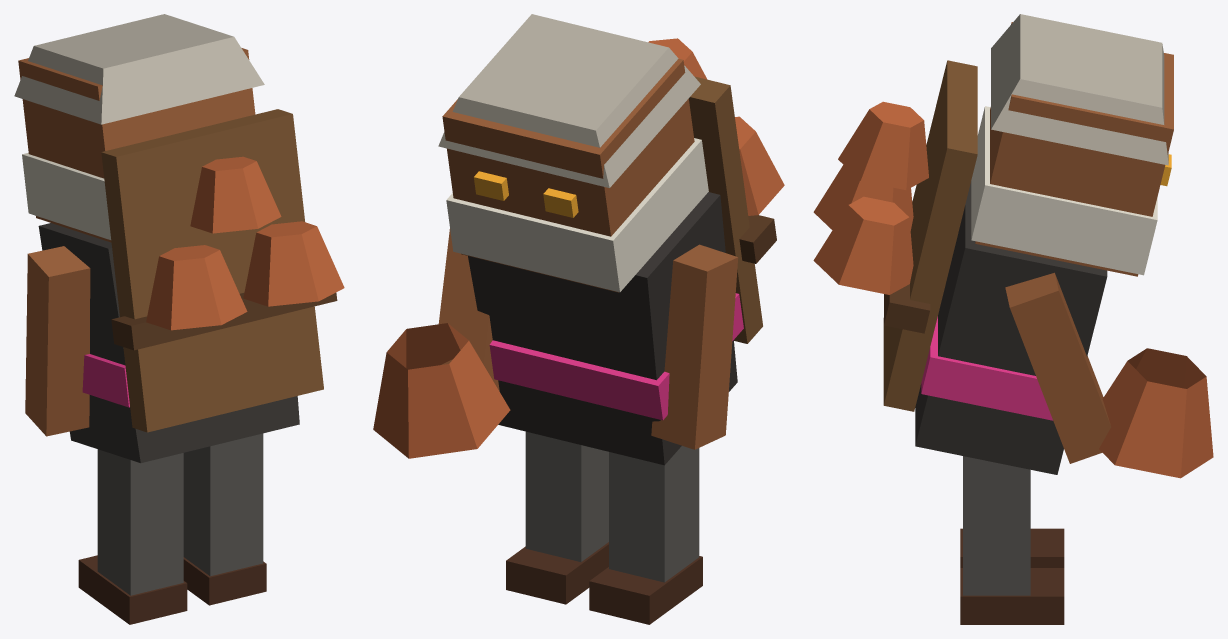
The model's file is EN_FirePot.fbx.
3 renders of one model, left to right at view 1: azimuth 30°, elevation 25°; view 2: azimuth 150°, elevation 25°; view 3: azimuth 270°, elevation 25°, orthographic. The views are drawn at different scales.
Parts seen in each view (by area): view 1: Frame, Cap, Body, LegL, ArmL, LegR, Head, PotB, PotA, PotC, Mask, FootL (+3 smaller); view 2: Body, Cap, Head, Mask, HandPot, ArmL, LegL, LegR, Frame, Sash, FootL, FootR (+6 smaller); view 3: Body, Cap, Frame, Head, Mask, HandPot, ArmR, LegR, PotB, PotC, Sash, FootR (+3 smaller).
Boxes of the visible parts, x1,y1,x2,y2 form: Frame: (101,109,323,432); Cap: (14,14,264,124); Body: (38,223,299,463); LegL: (97,449,183,595); ArmL: (25,246,90,436); LegR: (183,433,263,576); Head: (18,48,255,242); PotB: (243,221,344,306); PotA: (146,245,247,330); PotC: (190,156,281,233); Mask: (22,152,111,239); FootL: (78,555,187,624); Body: (468,192,737,465); Cap: (438,14,700,187); Head: (442,58,694,292); Mask: (446,138,708,292); HandPot: (373,323,510,458); ArmL: (651,244,738,449); LegL: (609,446,699,582); LegR: (525,431,608,561); Frame: (688,76,762,343); Sash: (489,293,743,420); FootL: (589,556,702,624); FootR: (506,542,608,604); Body: (915,181,1107,474); Cap: (991,14,1168,165); Frame: (883,60,977,411); Head: (975,22,1173,276); Mask: (971,106,1157,275); HandPot: (1099,348,1213,478); ArmR: (1005,272,1110,463); LegR: (963,456,1030,595); PotB: (813,196,913,294); PotC: (838,101,928,190); Sash: (921,316,1052,420); FootR: (960,568,1064,624).
Size of the model in its own units: 0.5985 by 0.7693 by 1.15.
